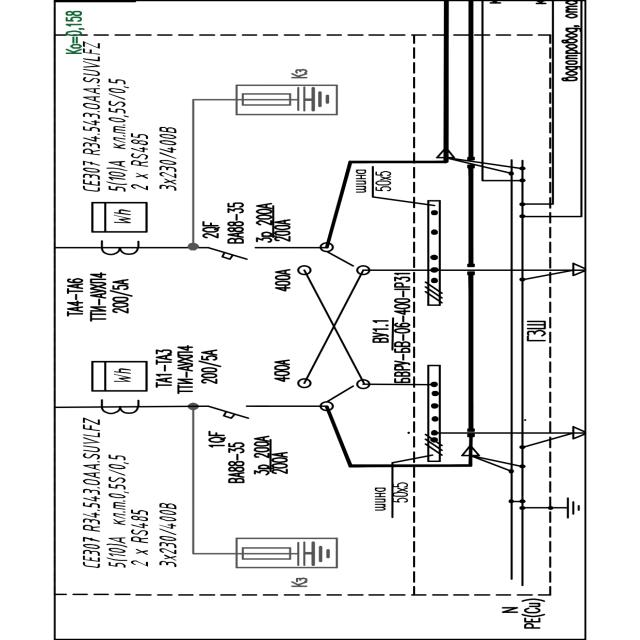-: (73, 37, 179, 192), (76, 416, 178, 568), (227, 434, 292, 486), (224, 201, 295, 245), (84, 269, 136, 322), (174, 344, 226, 397), (390, 272, 412, 384), (274, 268, 294, 294), (272, 358, 292, 383)
QF: (206, 400, 254, 420), (208, 242, 256, 262)
TT: (98, 238, 142, 256), (98, 398, 144, 414)
WH: (88, 199, 152, 235), (88, 360, 148, 394)
switch: (295, 347, 369, 411), (296, 245, 372, 299)
